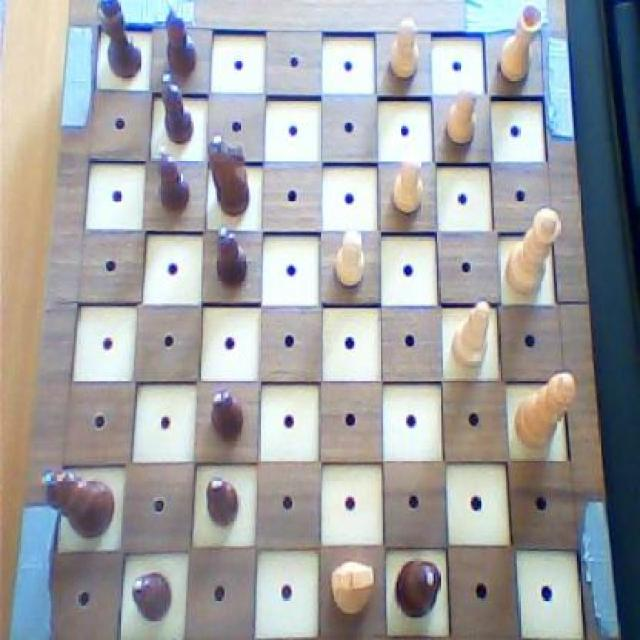black-bishop: (39, 465, 116, 539)
black-king: (206, 132, 254, 220)
black-knight: (160, 71, 198, 150), (154, 143, 192, 220), (161, 0, 196, 78), (211, 223, 248, 292), (126, 571, 175, 623), (204, 472, 240, 528), (211, 386, 245, 443)
black-pawn: (394, 554, 446, 625)
black-queen: (94, 0, 147, 83)
black-rook: (449, 297, 493, 374)
white-bishop: (514, 368, 578, 452)
white-king: (328, 556, 377, 618)
white-knight: (330, 226, 368, 291), (389, 156, 427, 218), (442, 83, 478, 148), (386, 19, 422, 83)
white-pawn: (506, 205, 563, 299)
white-queen: (494, 0, 546, 86)
